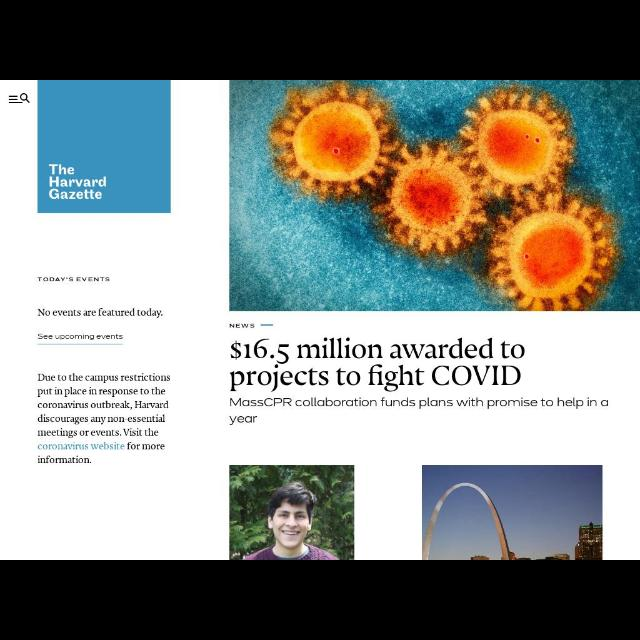icon: (8, 92, 30, 104)
image: (229, 80, 639, 312), (422, 465, 602, 559), (230, 464, 354, 560)
text: (230, 338, 524, 392), (38, 372, 170, 463), (230, 397, 608, 409), (48, 164, 106, 200), (38, 308, 162, 318), (38, 334, 124, 341), (38, 276, 110, 282), (229, 416, 257, 426), (230, 324, 254, 328)
